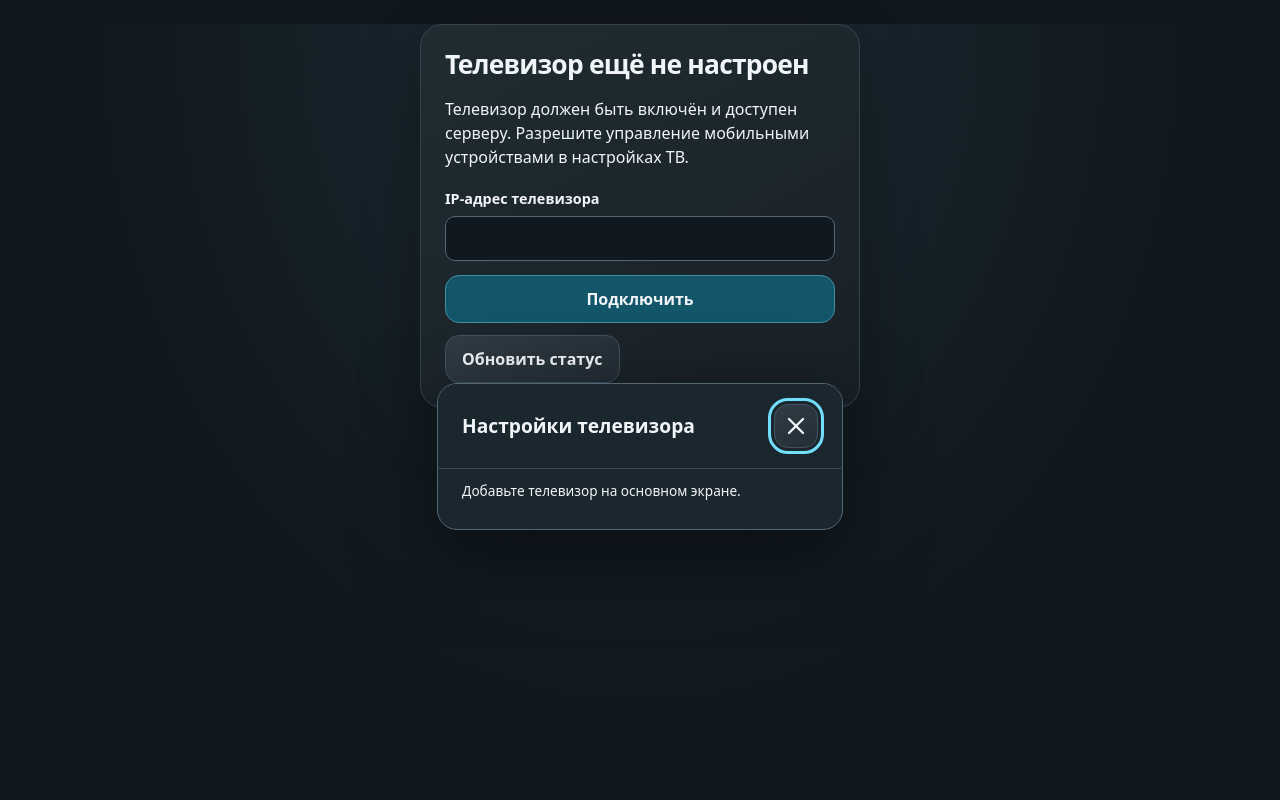
Test: shows actionable HTTP failure 409
Type "10.0.0.25" into the field labelled "IP-адрес телевизора" at (640, 238), box [445,216,835,261]
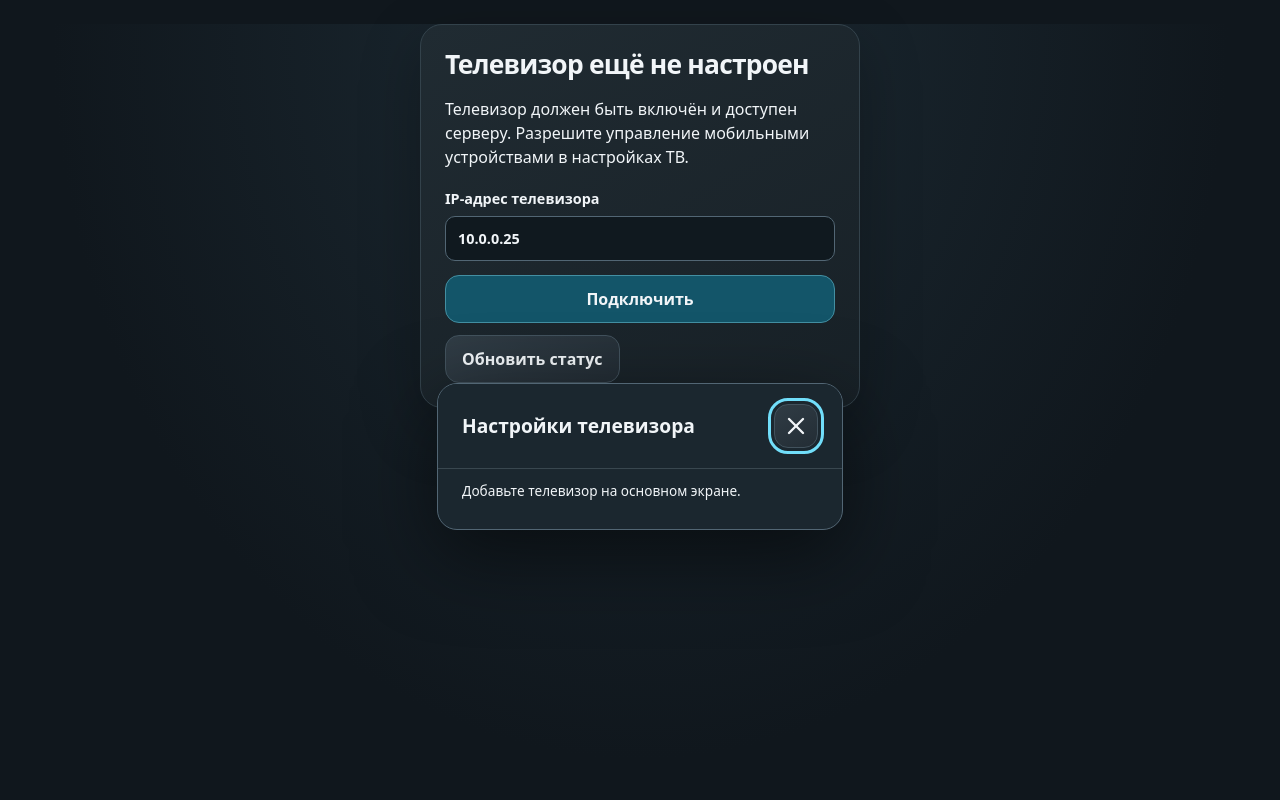
Submit the form labelled "IP-адрес телевизора", box [445,189,835,323]
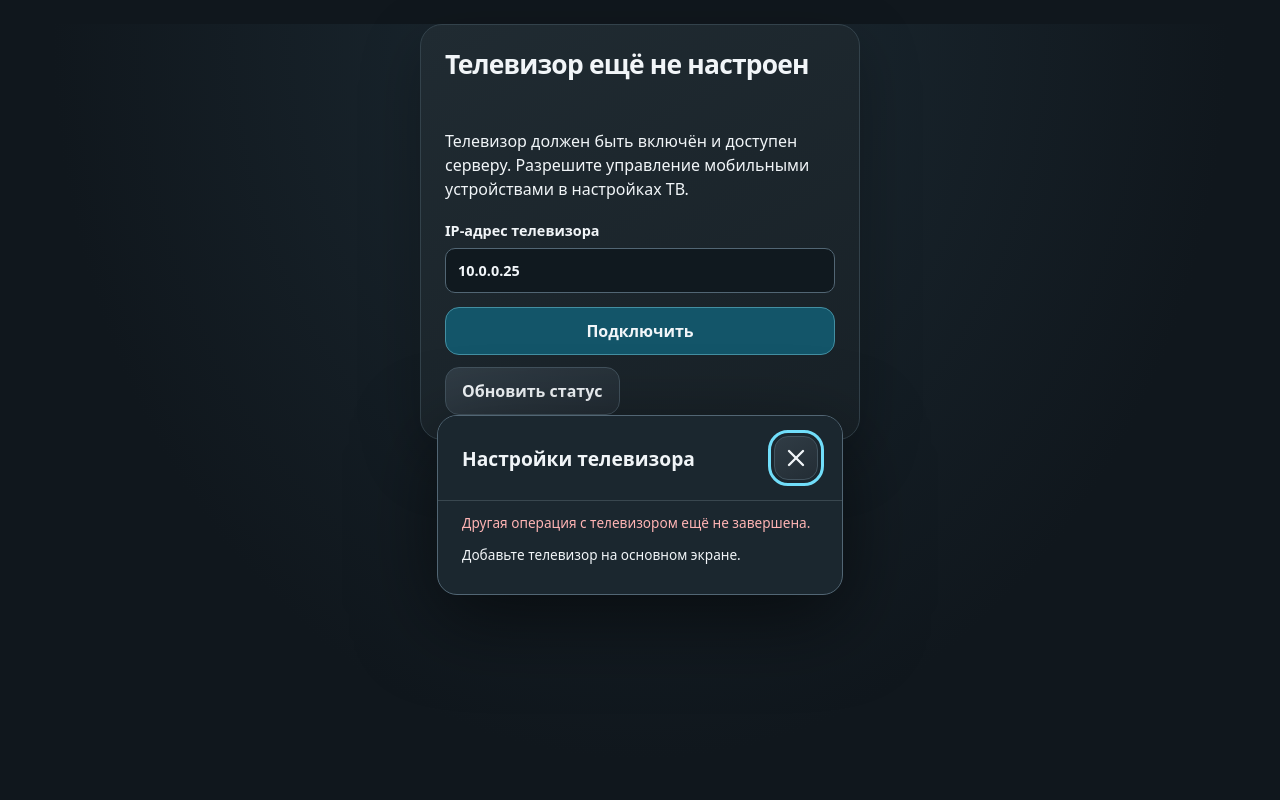
Now the message "Другая операция с телевизором ещё не завершена." is shown, box [462,513,818,534]
